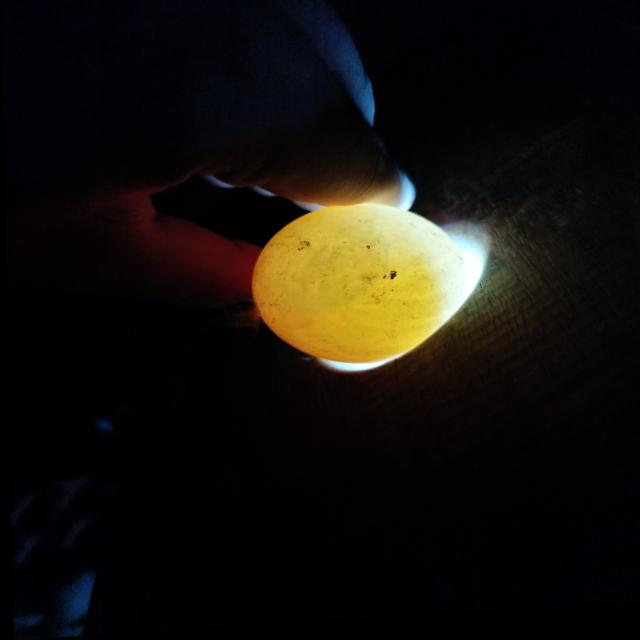Camara de Ar: (254, 214, 388, 317)
